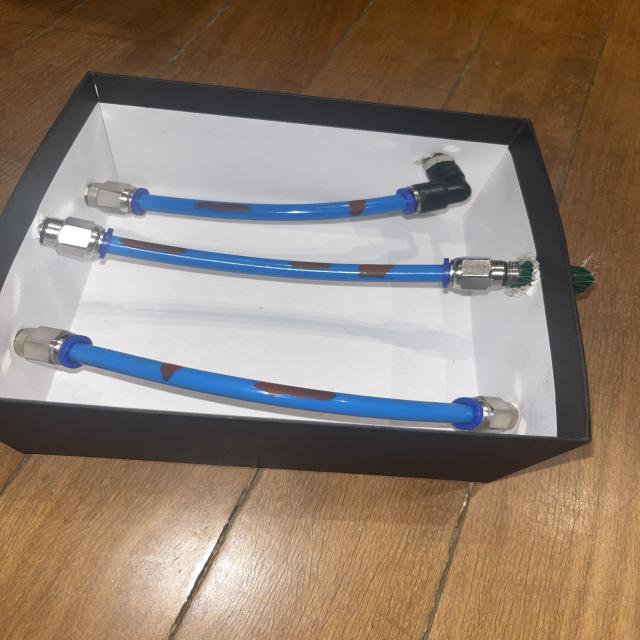hose_damage: (250, 380, 339, 404), (115, 235, 194, 259), (190, 200, 250, 218), (354, 262, 398, 280), (158, 360, 186, 384), (286, 260, 335, 272), (343, 198, 367, 218)
